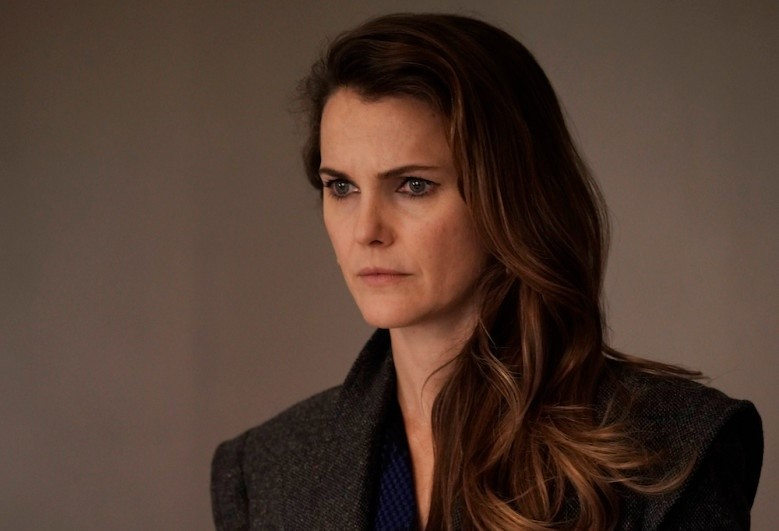face_no_mask: (315, 16, 546, 327)
